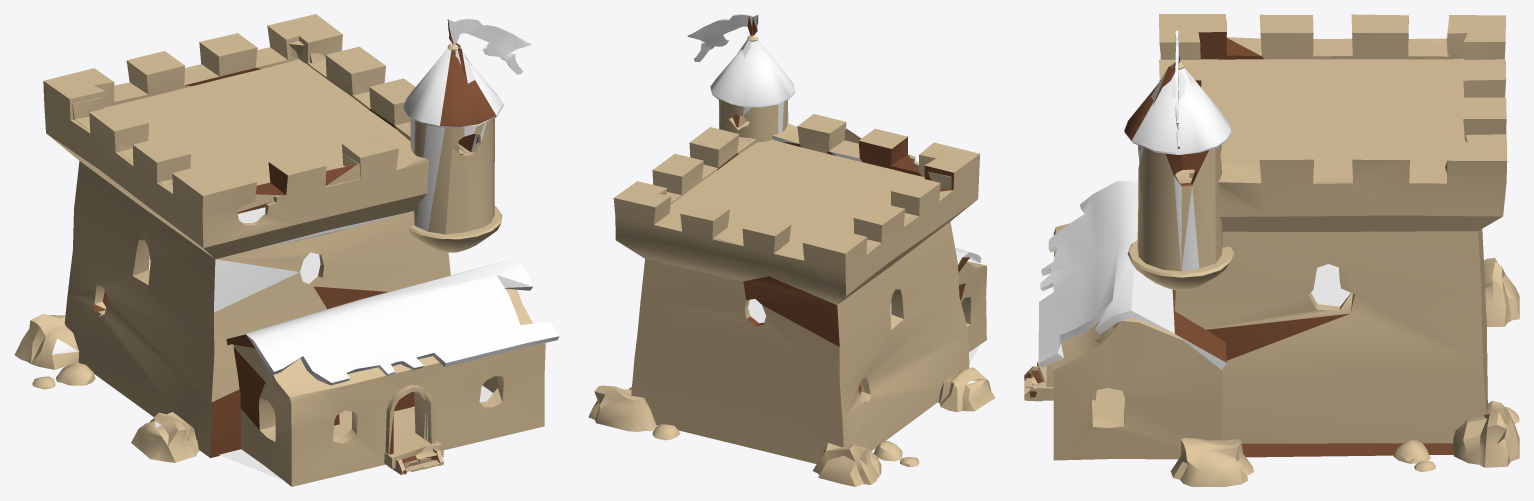
Rendered from castle_d1.3.glb.
3 views of the same model, side by side, from view 1: azimuth 30°, elevation 25°; view 2: azimuth 150°, elevation 25°; view 3: azimuth 270°, elevation 25° (orthographic). The views are drawn at different scales.
Visible parts, largest first — view 1: castle; view 2: castle; view 3: castle.
Part boxes in pixels (box(x1,y1,x2,y2)): castle: box(14, 14, 559, 486); castle: box(588, 14, 995, 486); castle: box(1024, 14, 1519, 486).
Bounding box in the file's own units: 2.87 × 2.66 × 2.9.
